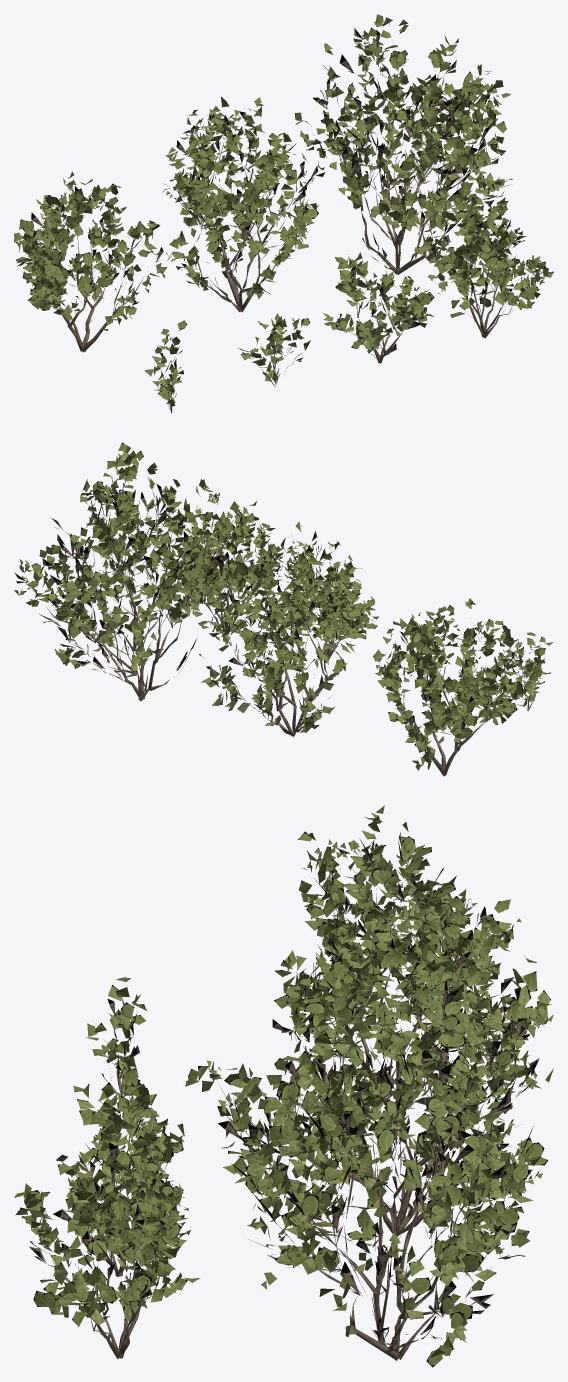
File: searsia_lucida.glb
3 renders of one model, top to bottom at view 1: azimuth 30°, elevation 25°; view 2: azimuth 150°, elevation 25°; view 3: azimuth 270°, elevation 25°, orthographic. The views are drawn at different scales.
Visible parts, largest first — view 1: searsia_lucida_a_LOD0.002, searsia_lucida_b_LOD0.002, searsia_lucida_c_LOD0.002, searsia_lucida_d_LOD0.002, searsia_lucida_e_LOD0.002, searsia_lucida_a_LOD0, searsia_lucida_a_LOD0.001, searsia_lucida_b_LOD0, searsia_lucida_b_LOD0.001, searsia_lucida_f_LOD0.002, searsia_lucida_c_LOD0.001, searsia_lucida_g_LOD0.002 (+3 smaller); view 2: searsia_lucida_a_LOD0.002, searsia_lucida_b_LOD0.002, searsia_lucida_c_LOD0.002, searsia_lucida_d_LOD0.002, searsia_lucida_a_LOD0, searsia_lucida_a_LOD0.001, searsia_lucida_b_LOD0, searsia_lucida_b_LOD0.001, searsia_lucida_e_LOD0.002, searsia_lucida_c_LOD0.001, searsia_lucida_c_LOD0, searsia_lucida_g_LOD0.002 (+1 smaller); view 3: searsia_lucida_a_LOD0.002, searsia_lucida_b_LOD0.002, searsia_lucida_d_LOD0.002, searsia_lucida_c_LOD0.002, searsia_lucida_a_LOD0, searsia_lucida_a_LOD0.001, searsia_lucida_e_LOD0.002, searsia_lucida_b_LOD0, searsia_lucida_b_LOD0.001, searsia_lucida_g_LOD0.002, searsia_lucida_f_LOD0.002, searsia_lucida_d_LOD0 (+3 smaller).
Boxes of the visible parts, <box> form: searsia_lucida_a_LOD0.002: <box>295,14,511,253</box>; searsia_lucida_b_LOD0.002: <box>162,97,324,298</box>; searsia_lucida_c_LOD0.002: <box>14,171,184,330</box>; searsia_lucida_d_LOD0.002: <box>419,192,553,317</box>; searsia_lucida_e_LOD0.002: <box>323,252,442,353</box>; searsia_lucida_a_LOD0: <box>305,23,512,261</box>; searsia_lucida_a_LOD0.001: <box>319,47,499,274</box>; searsia_lucida_b_LOD0: <box>163,111,325,290</box>; searsia_lucida_b_LOD0.001: <box>190,124,305,312</box>; searsia_lucida_f_LOD0.002: <box>238,314,309,382</box>; searsia_lucida_c_LOD0.001: <box>41,199,144,352</box>; searsia_lucida_g_LOD0.002: <box>145,320,186,406</box>; searsia_lucida_a_LOD0.002: <box>14,442,266,672</box>; searsia_lucida_b_LOD0.002: <box>198,521,366,732</box>; searsia_lucida_c_LOD0.002: <box>373,598,553,770</box>; searsia_lucida_d_LOD0.002: <box>177,501,284,626</box>; searsia_lucida_a_LOD0: <box>14,473,230,673</box>; searsia_lucida_a_LOD0.001: <box>46,498,219,701</box>; searsia_lucida_b_LOD0: <box>199,531,353,728</box>; searsia_lucida_b_LOD0.001: <box>223,534,350,736</box>; searsia_lucida_e_LOD0.002: <box>274,568,378,642</box>; searsia_lucida_c_LOD0.001: <box>396,632,523,776</box>; searsia_lucida_c_LOD0: <box>395,617,526,761</box>; searsia_lucida_g_LOD0.002: <box>501,631,550,706</box>; searsia_lucida_a_LOD0.002: <box>184,954,547,1367</box>; searsia_lucida_b_LOD0.002: <box>275,896,553,1208</box>; searsia_lucida_d_LOD0.002: <box>14,1107,199,1326</box>; searsia_lucida_c_LOD0.002: <box>274,805,521,1083</box>; searsia_lucida_a_LOD0: <box>218,970,533,1340</box>; searsia_lucida_a_LOD0.001: <box>217,985,516,1360</box>; searsia_lucida_e_LOD0.002: <box>56,1068,185,1257</box>; searsia_lucida_b_LOD0: <box>272,882,539,1187</box>; searsia_lucida_b_LOD0.001: <box>294,909,540,1236</box>; searsia_lucida_g_LOD0.002: <box>85,977,148,1103</box>; searsia_lucida_f_LOD0.002: <box>73,1082,156,1170</box>; searsia_lucida_d_LOD0: <box>29,1142,162,1330</box>.
Size of the model in its own units: 4.78 by 2.36 by 2.81.
3 materials, 3 textured.
